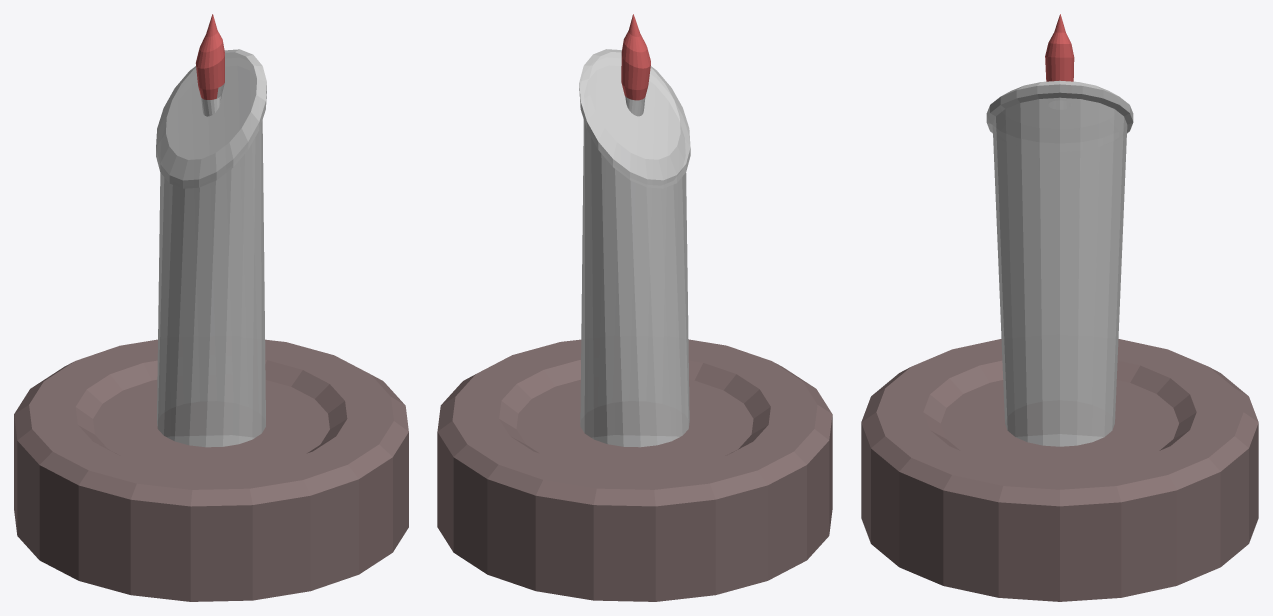
Rendered from candel.fbx.
The picture shows the model from 3 angles, left to right: view 1: azimuth 30°, elevation 25°; view 2: azimuth 150°, elevation 25°; view 3: azimuth 270°, elevation 25°; orthographic projection.
Parts seen in each view (by area): view 1: diiner_objects_1:dner_objects:pCylinder3; view 2: diiner_objects_1:dner_objects:pCylinder3; view 3: diiner_objects_1:dner_objects:pCylinder3.
Boxes of the visible parts, bbox=[...] form: diiner_objects_1:dner_objects:pCylinder3: bbox=[14, 14, 408, 601]; diiner_objects_1:dner_objects:pCylinder3: bbox=[437, 14, 832, 601]; diiner_objects_1:dner_objects:pCylinder3: bbox=[861, 14, 1258, 601].
Bounding box in the file's own units: 6.1 × 8.55 × 6.1.
